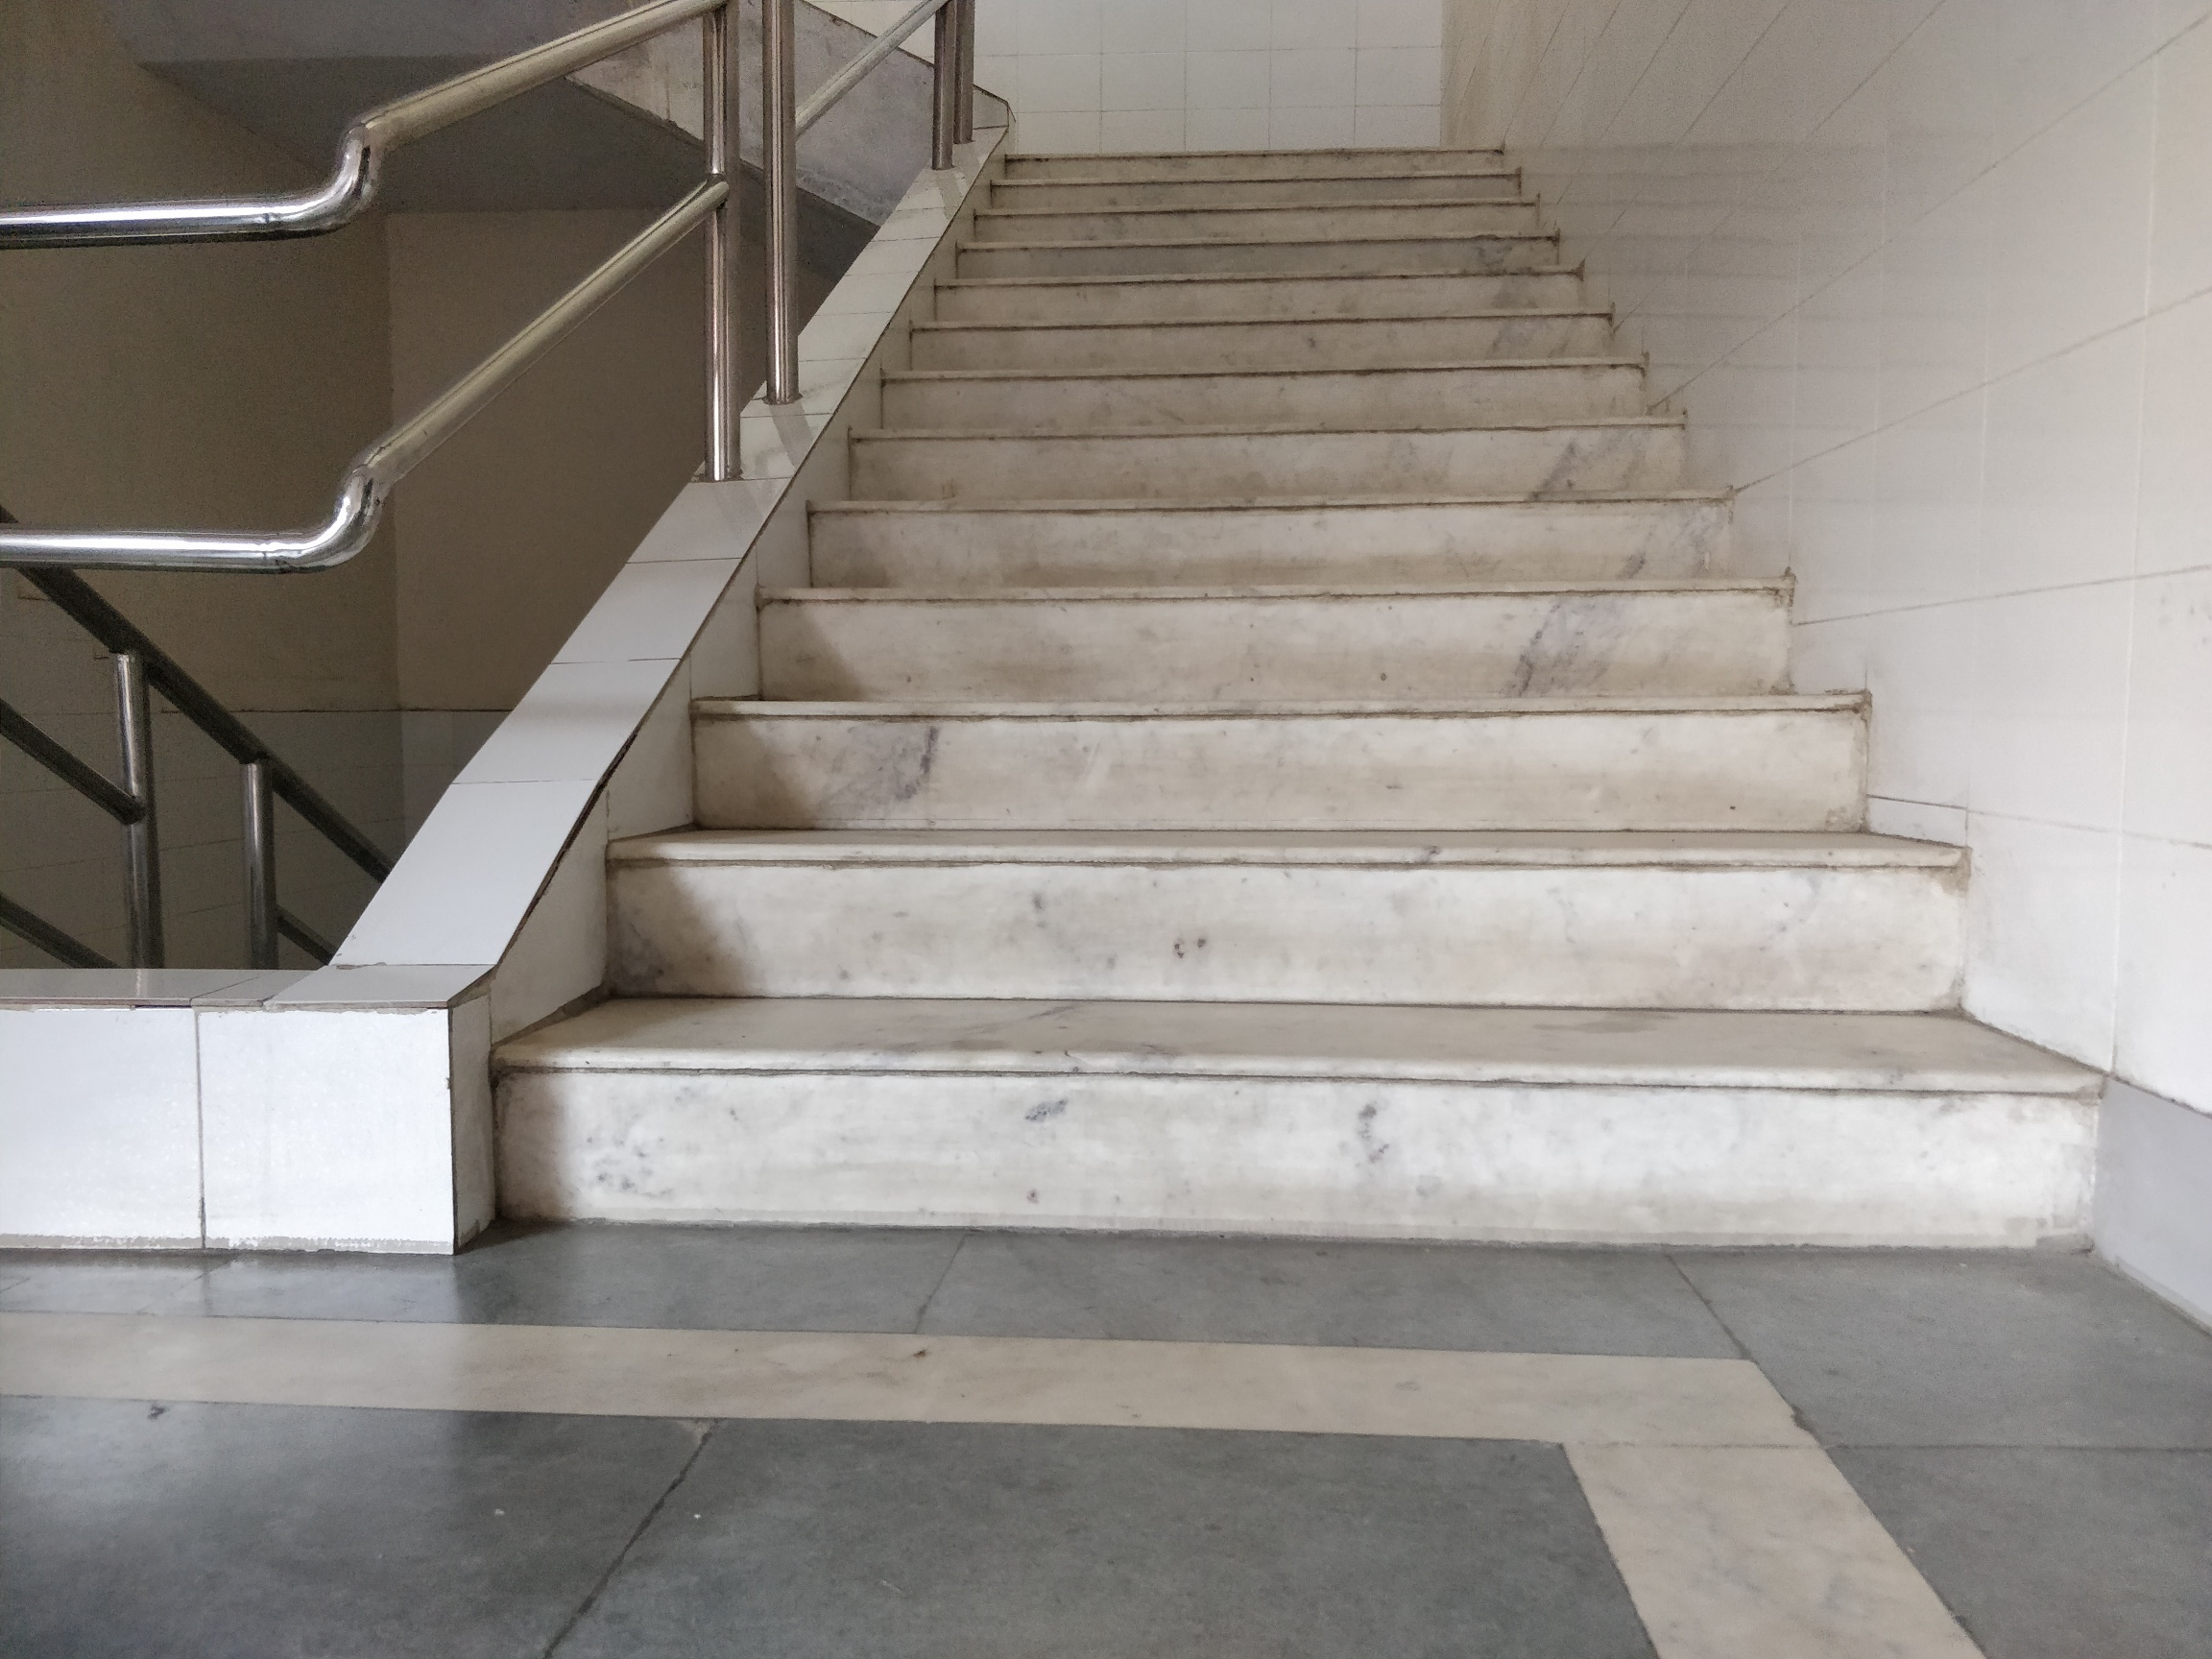stairs_up: (510, 124, 2149, 1272)
